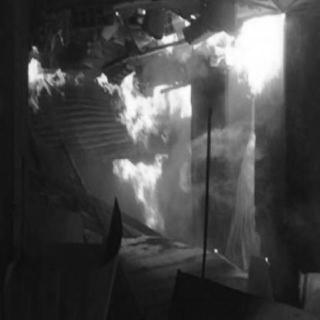Fire: (101, 69, 191, 225), (210, 9, 290, 114), (27, 33, 67, 121)
